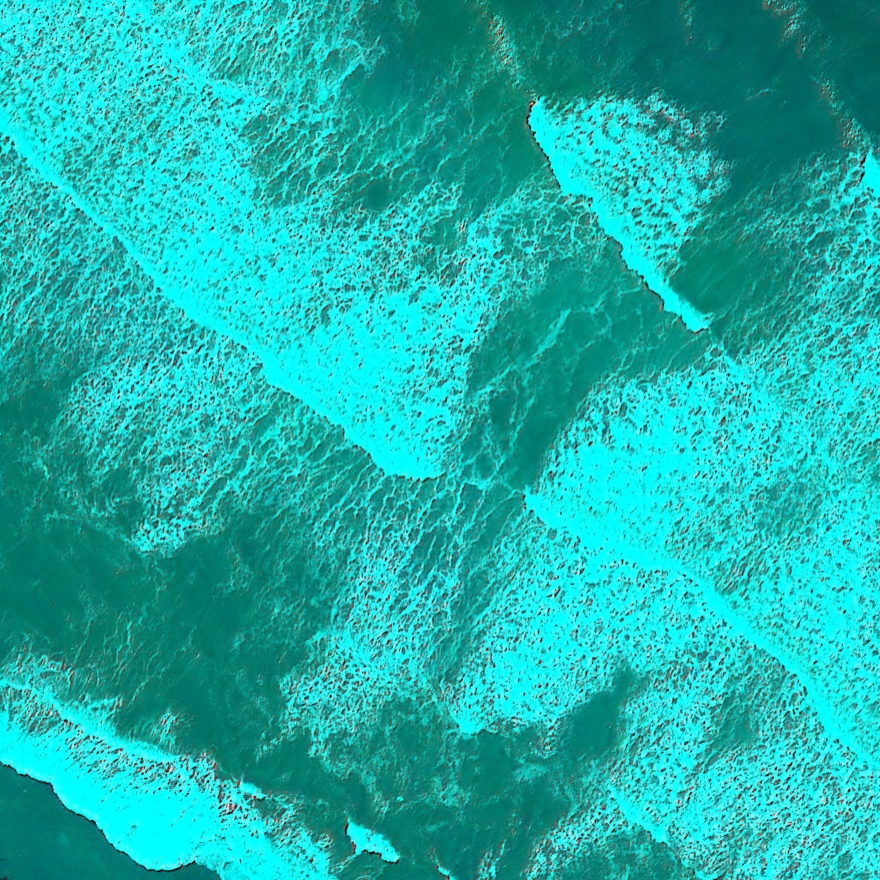rip_current: (352, 154, 686, 648)
